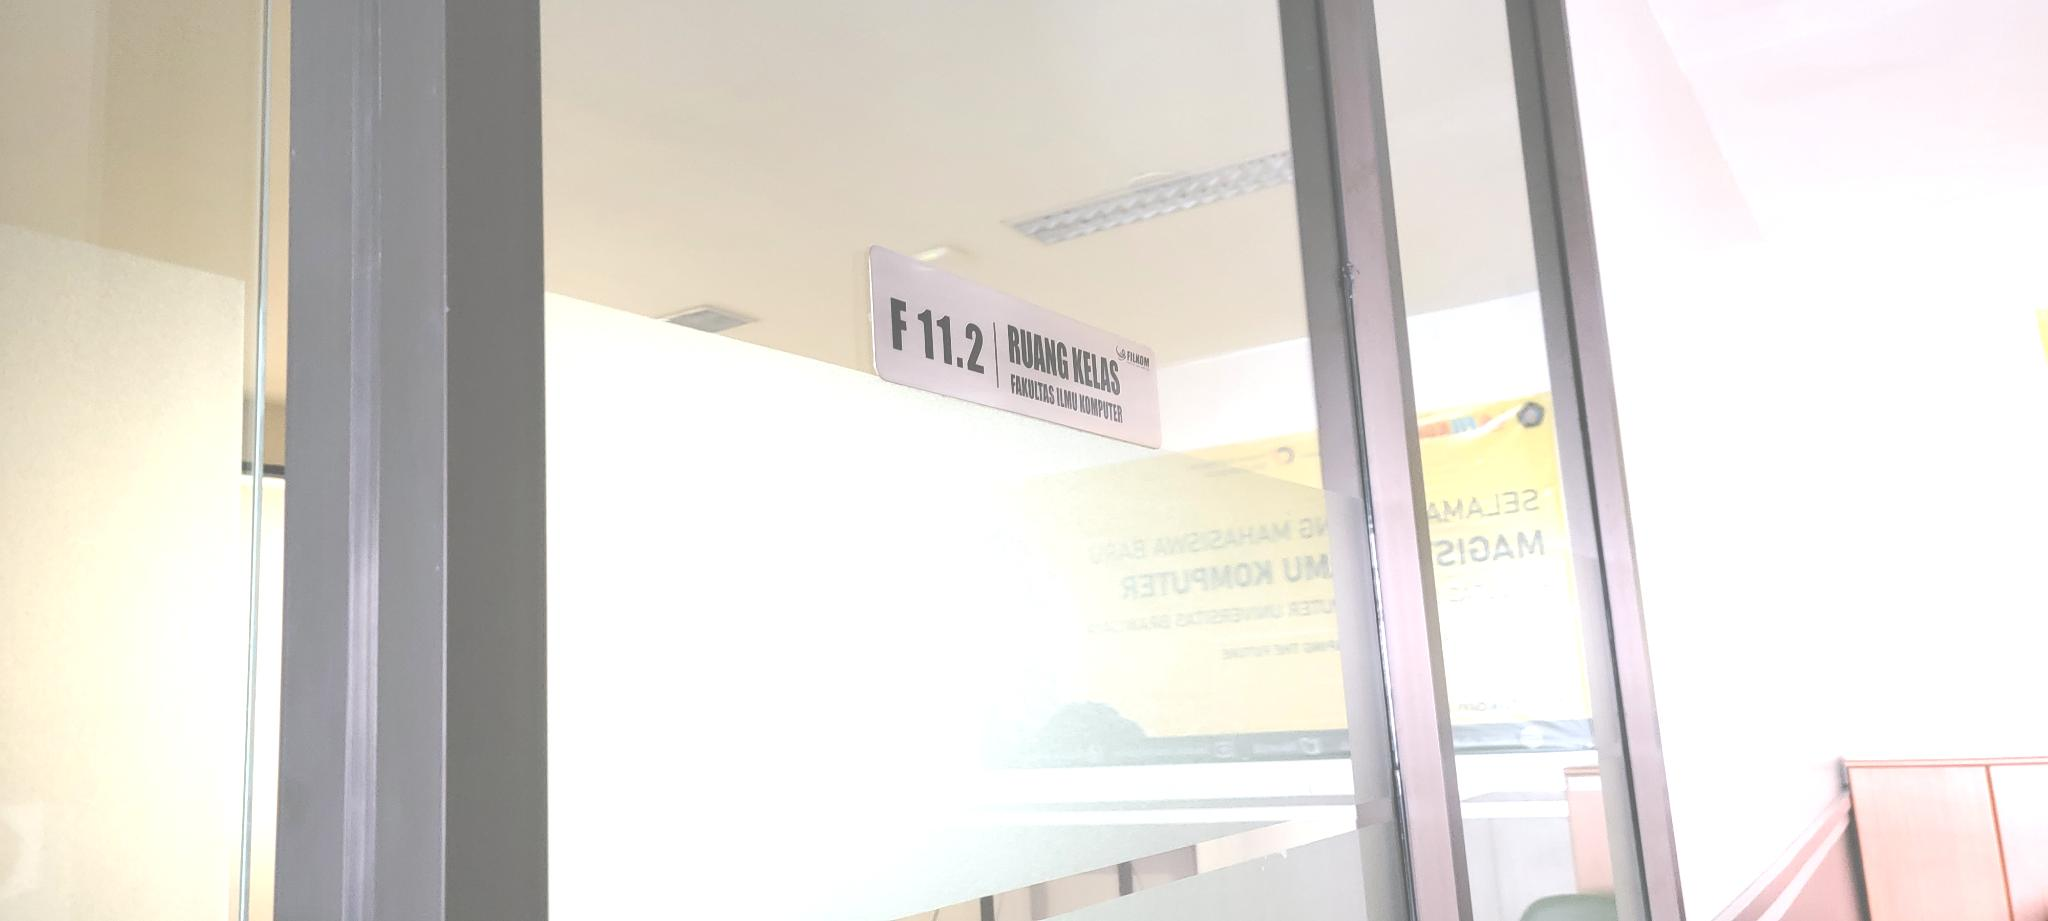plate: (866, 235, 1164, 460)
